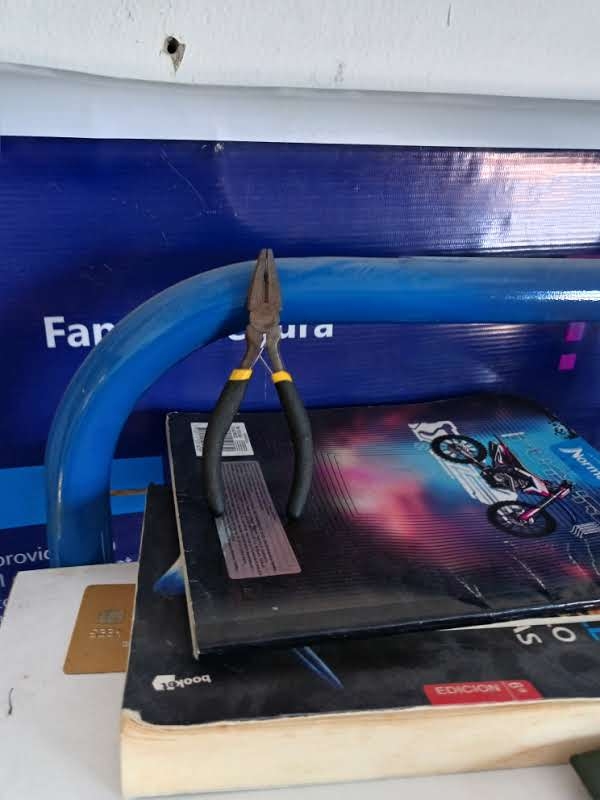Pinzas: (204, 249, 312, 517)
